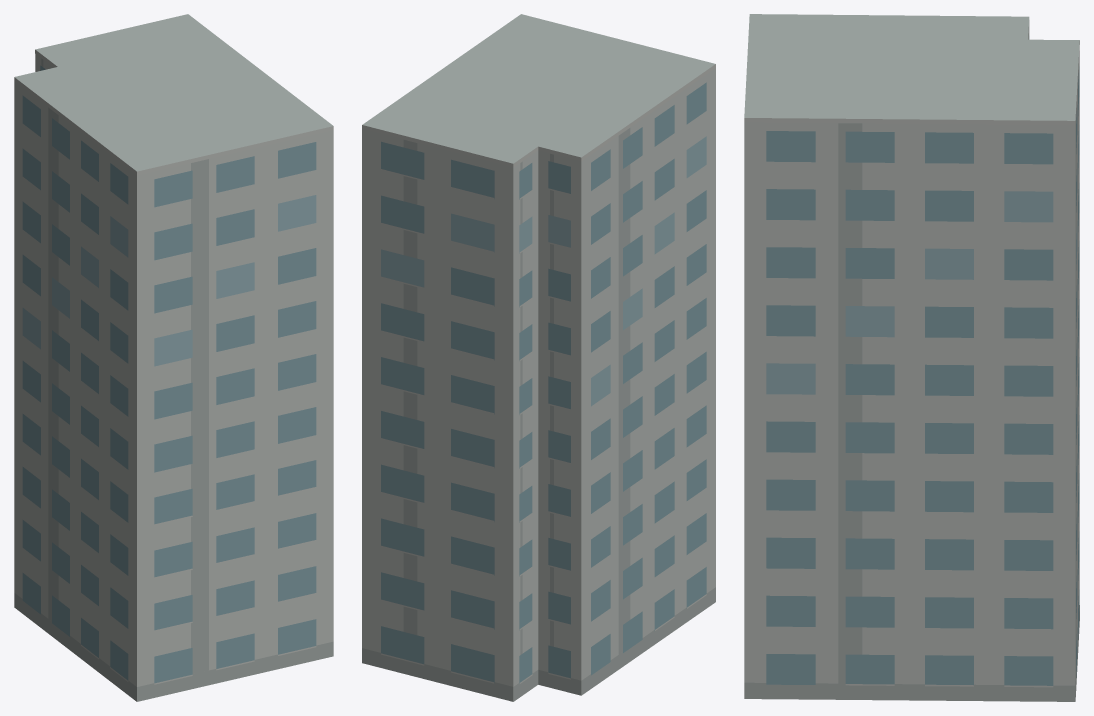
The model's file is residential-56bf35c0-0e1b-4074-822c-e8e38a45860f.glb.
3 renders of one model, left to right at view 1: azimuth 30°, elevation 25°; view 2: azimuth 150°, elevation 25°; view 3: azimuth 270°, elevation 25°, orthographic. The views are drawn at different scales.
Parts seen in each view (by area): view 1: residential-56bf35c0-0e1b-4074-822c-e8e38a45860f.tmp; view 2: residential-56bf35c0-0e1b-4074-822c-e8e38a45860f.tmp; view 3: residential-56bf35c0-0e1b-4074-822c-e8e38a45860f.tmp.
Part boxes in pixels (x1,y1,x2,y2): residential-56bf35c0-0e1b-4074-822c-e8e38a45860f.tmp: [14, 14, 333, 701]; residential-56bf35c0-0e1b-4074-822c-e8e38a45860f.tmp: [362, 14, 715, 701]; residential-56bf35c0-0e1b-4074-822c-e8e38a45860f.tmp: [744, 14, 1079, 701].
Bounding box in the file's own units: 12.63 × 32 × 16.75.
